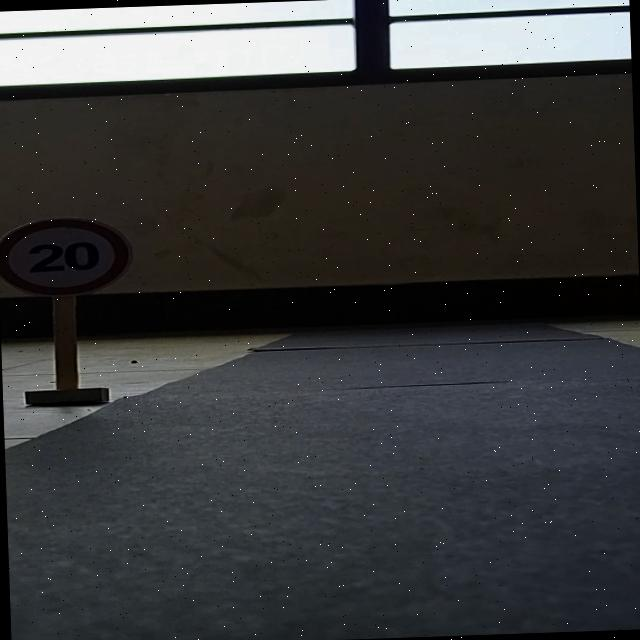Speed20: (0, 211, 145, 301)
